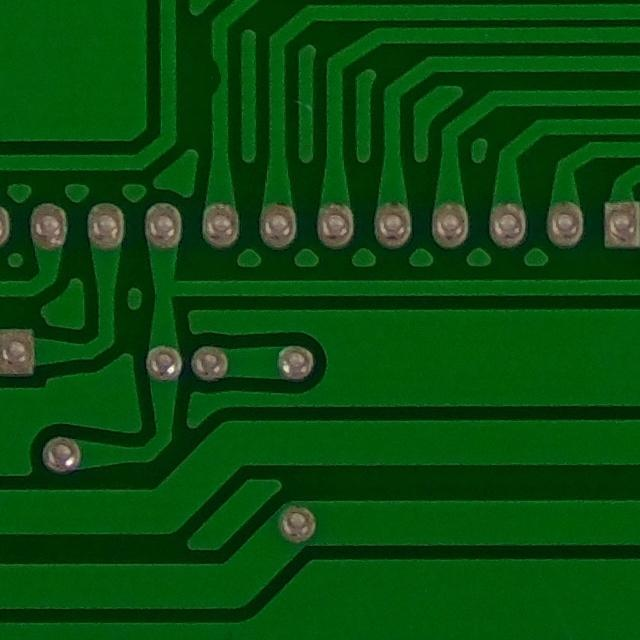mouse_bite: (194, 48, 230, 104)
